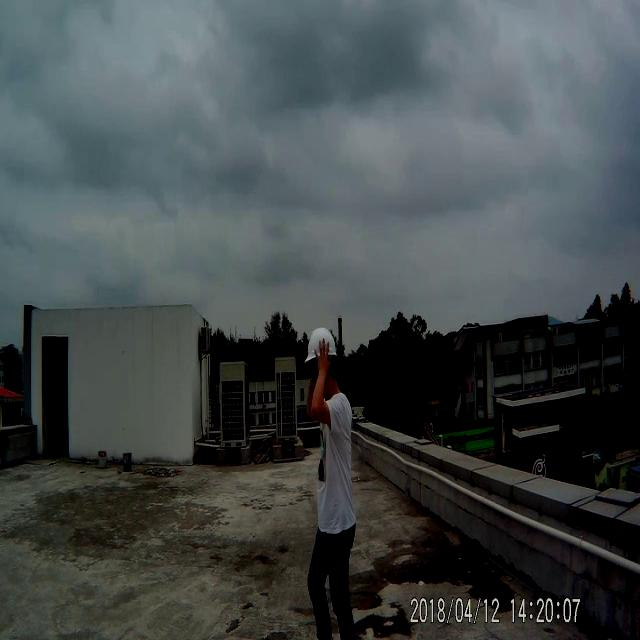hand_noglove: (312, 338, 333, 380)
head_helmet: (304, 328, 338, 360)
person: (297, 320, 360, 640)
